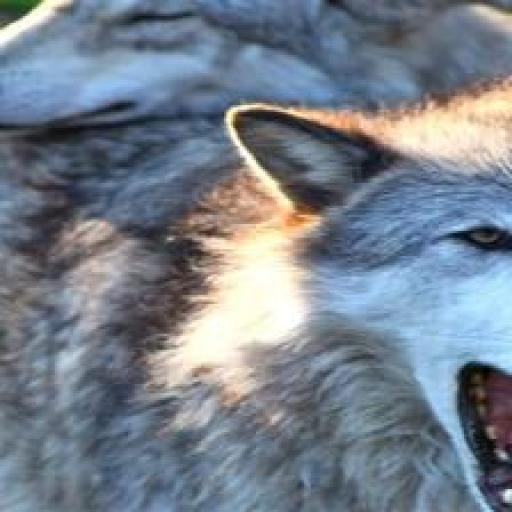wolf: (0, 68, 512, 511)
